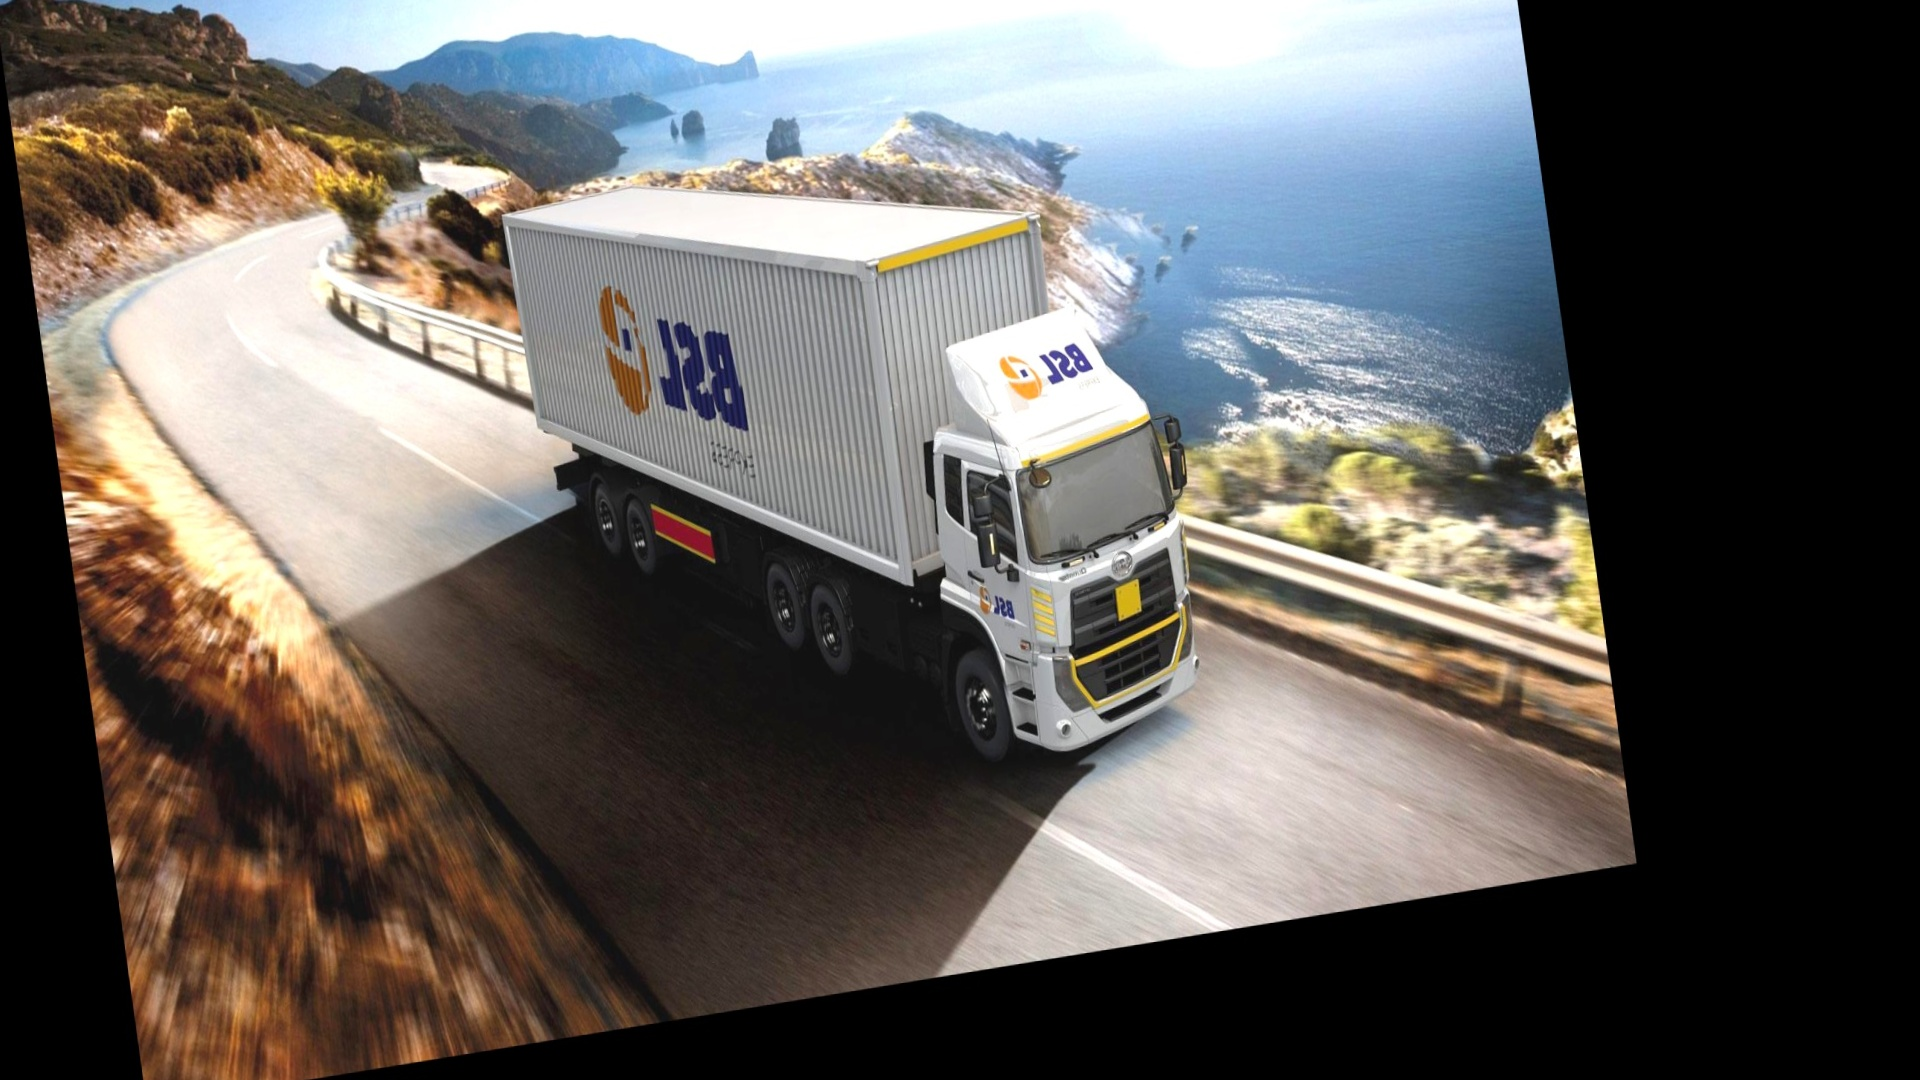truck: (496, 107, 1216, 843)
